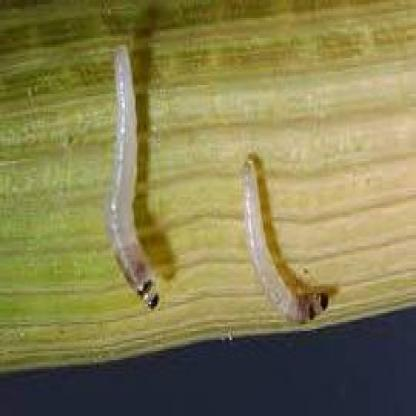whorl-maggot: (234, 149, 334, 326), (104, 42, 164, 314)
